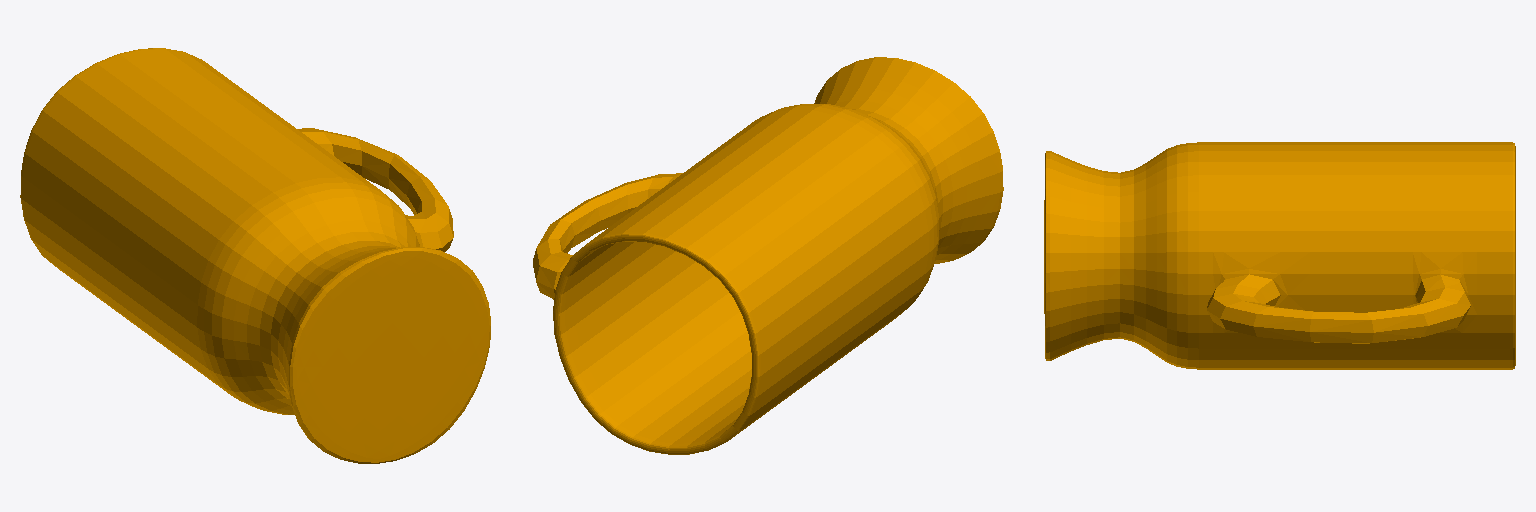
robot.urdf — 279:
<?xml version="1.0" ?>
<robot name="279">
  <link name="body">
    <visual>
      <geometry>
        <mesh filename="../shapes/279.obj"/>
      </geometry>
    </visual>
    <collision>
      <geometry>
        <mesh filename="../shapes/279.obj"/>
      </geometry>
    </collision>
  </link>
</robot>

--- Render facts (derived) ---
3 views of the same robot in one strip: view 1: azimuth 30°, elevation 25°; view 2: azimuth 150°, elevation 25°; view 3: azimuth 270°, elevation 25° (orthographic).
Model 279 with 1 links and 0 joints (none), rooted at body, posed every joint at zero.
Visible links, largest first — view 1: body; view 2: body; view 3: body.
Boxes of the visible links, left/top/right/bottom form: body: left=20, top=48, right=490, bottom=463; body: left=533, top=57, right=1003, bottom=454; body: left=1044, top=142, right=1515, bottom=369.
Bounding box of the posed robot: 3.37 × 5.13 × 2.42 m (x, y, z).
Meshes: 1 distinct files referenced, 1 mesh visuals loaded (1 OBJ).